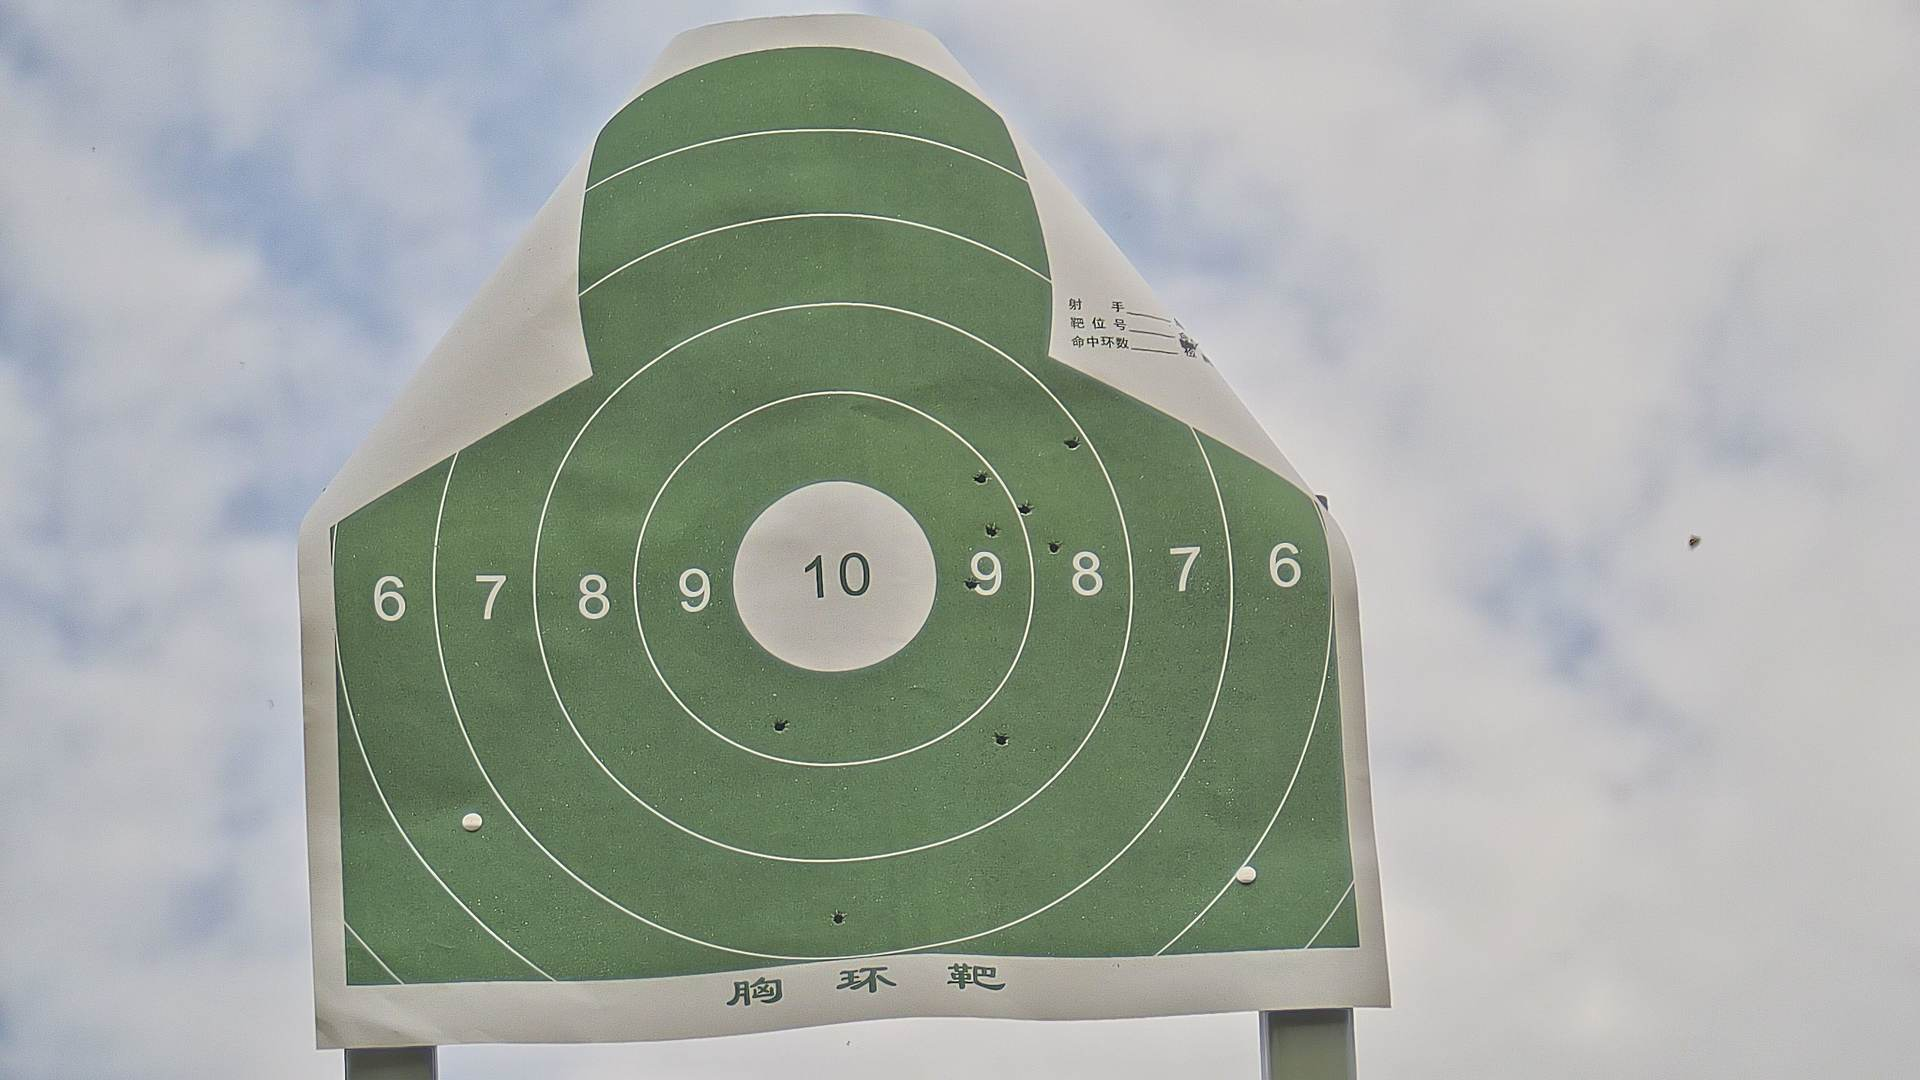hole: (767, 716, 793, 735), (828, 909, 851, 928), (971, 469, 993, 488), (1044, 538, 1065, 556), (1015, 501, 1036, 518), (982, 521, 1004, 538), (992, 731, 1011, 748), (1063, 436, 1083, 452), (963, 578, 982, 591)
kernel: (829, 576, 833, 578)
target: (326, 47, 1364, 990)
ten: (731, 475, 939, 675)
